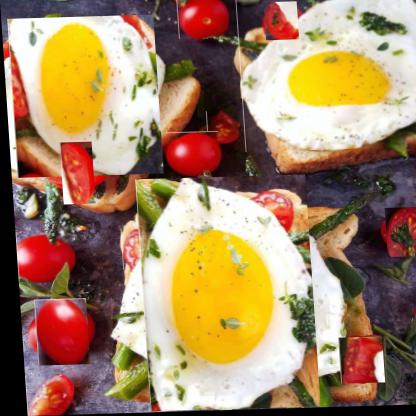egg: (117, 193, 332, 402), (235, 0, 415, 155), (4, 19, 166, 176)
tomato: (26, 302, 90, 363), (12, 233, 74, 282), (163, 132, 220, 178), (51, 149, 102, 199), (333, 337, 381, 387), (176, 0, 229, 41), (20, 375, 71, 416), (117, 229, 160, 272), (378, 211, 415, 259), (263, 4, 302, 42), (204, 112, 239, 144), (411, 296, 415, 325)
